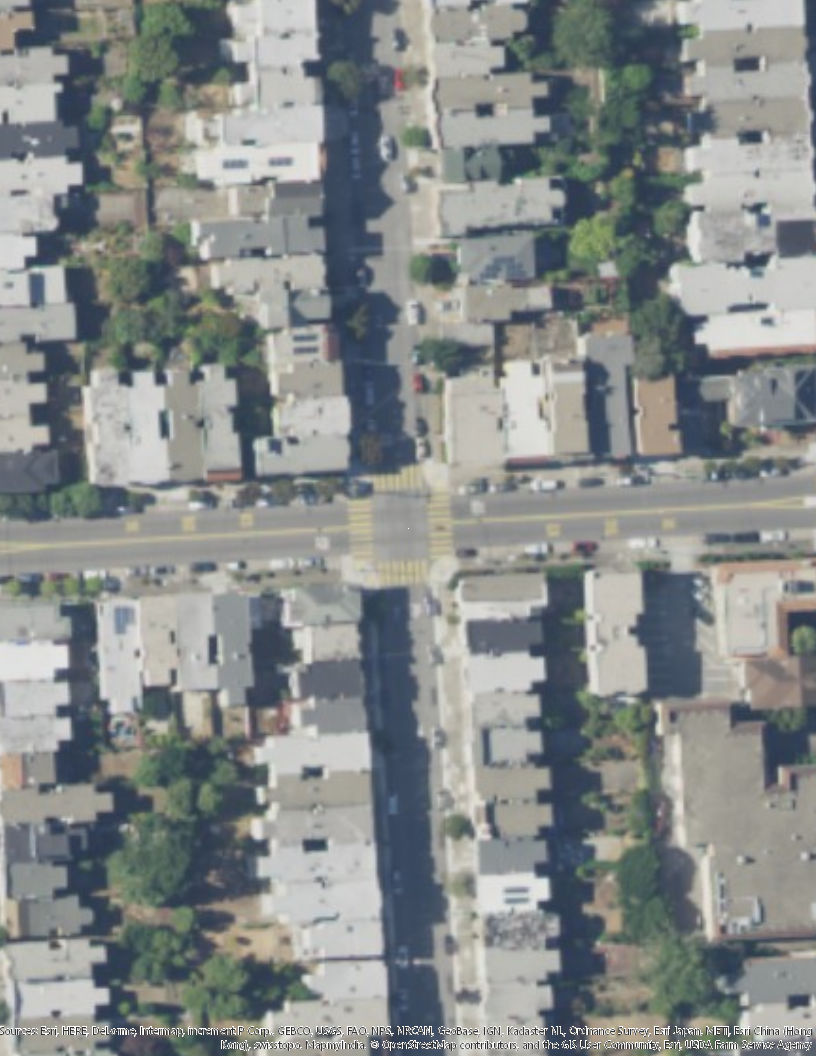zebracross: (428, 494, 455, 557), (348, 498, 374, 563), (376, 465, 428, 493), (379, 561, 428, 584)
